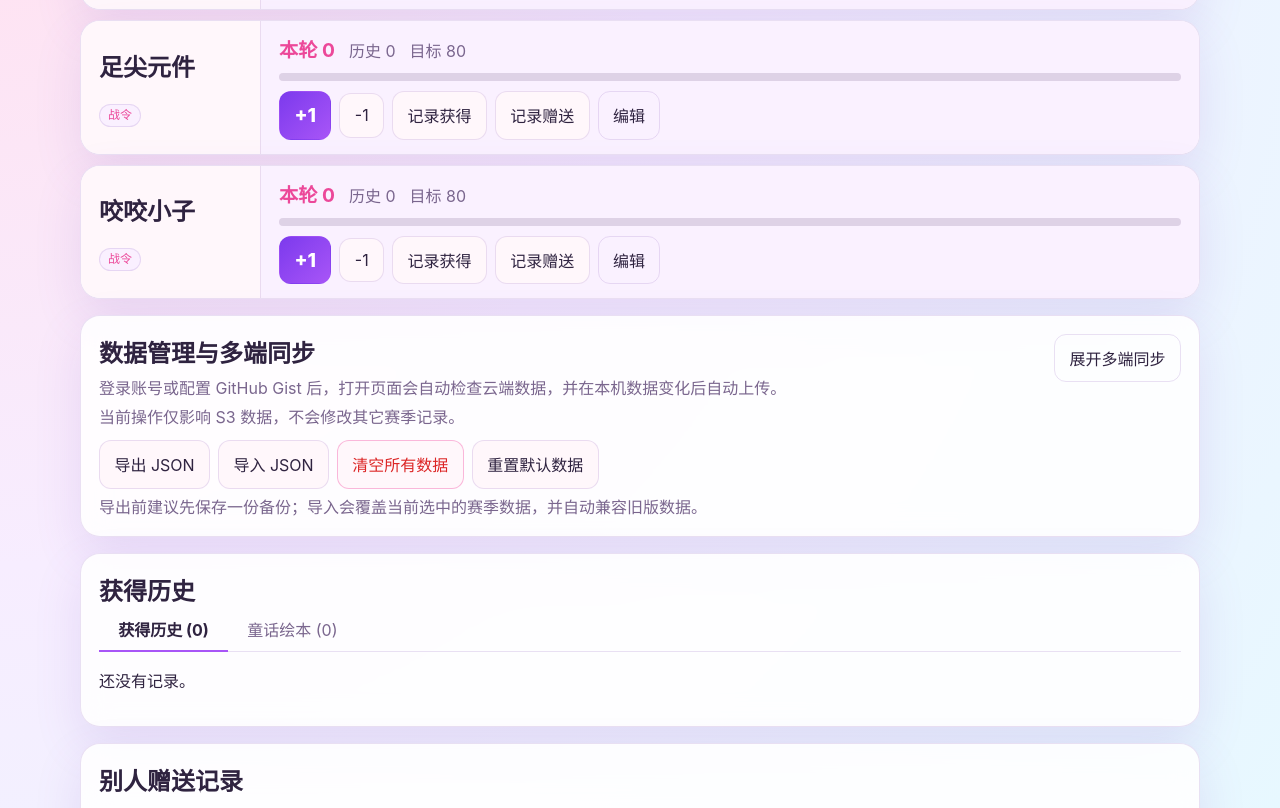
App › pushes current data to a private gist and stores the new gist id
(page scrolled)
Click the button "展开多端同步" at [1118, 358], box 1054,334 -> 1181,382
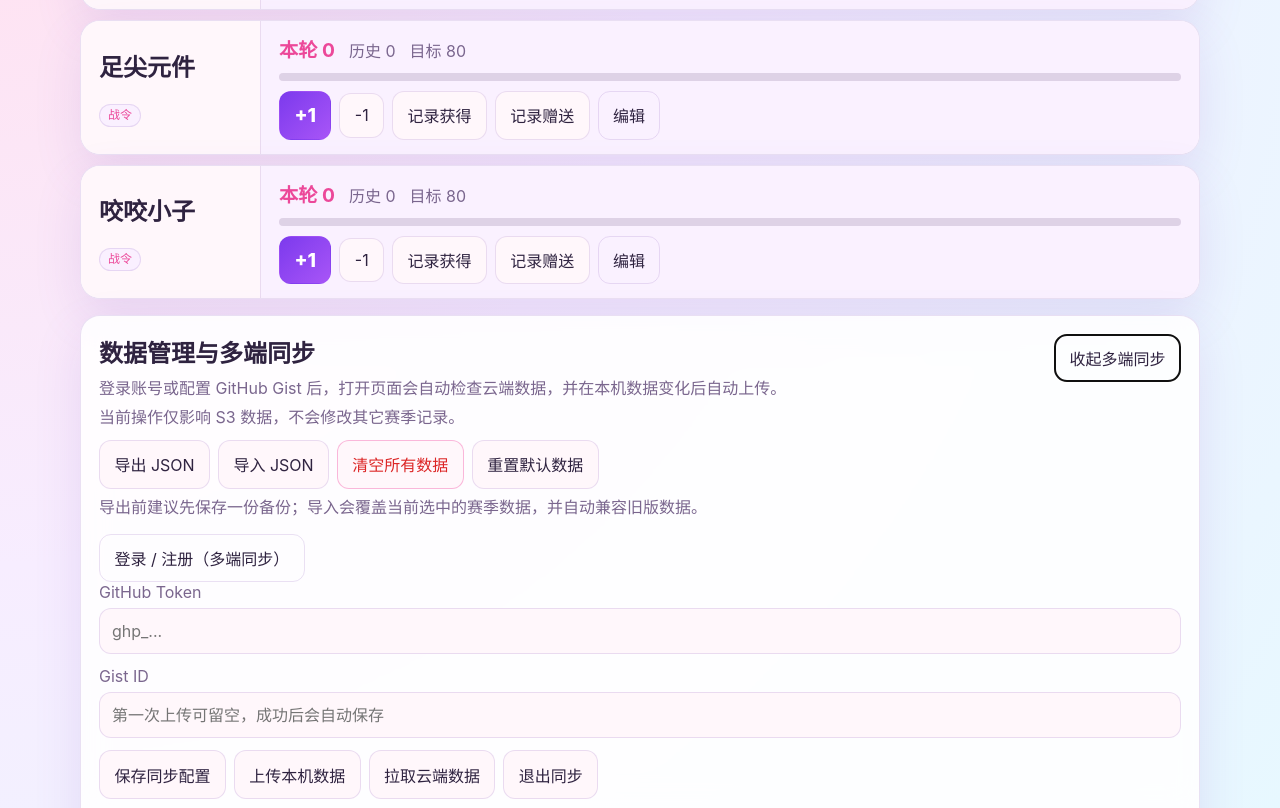
Type "token-1" into the password field labelled "GitHub Token" at [640, 632], box 99,608 -> 1181,654
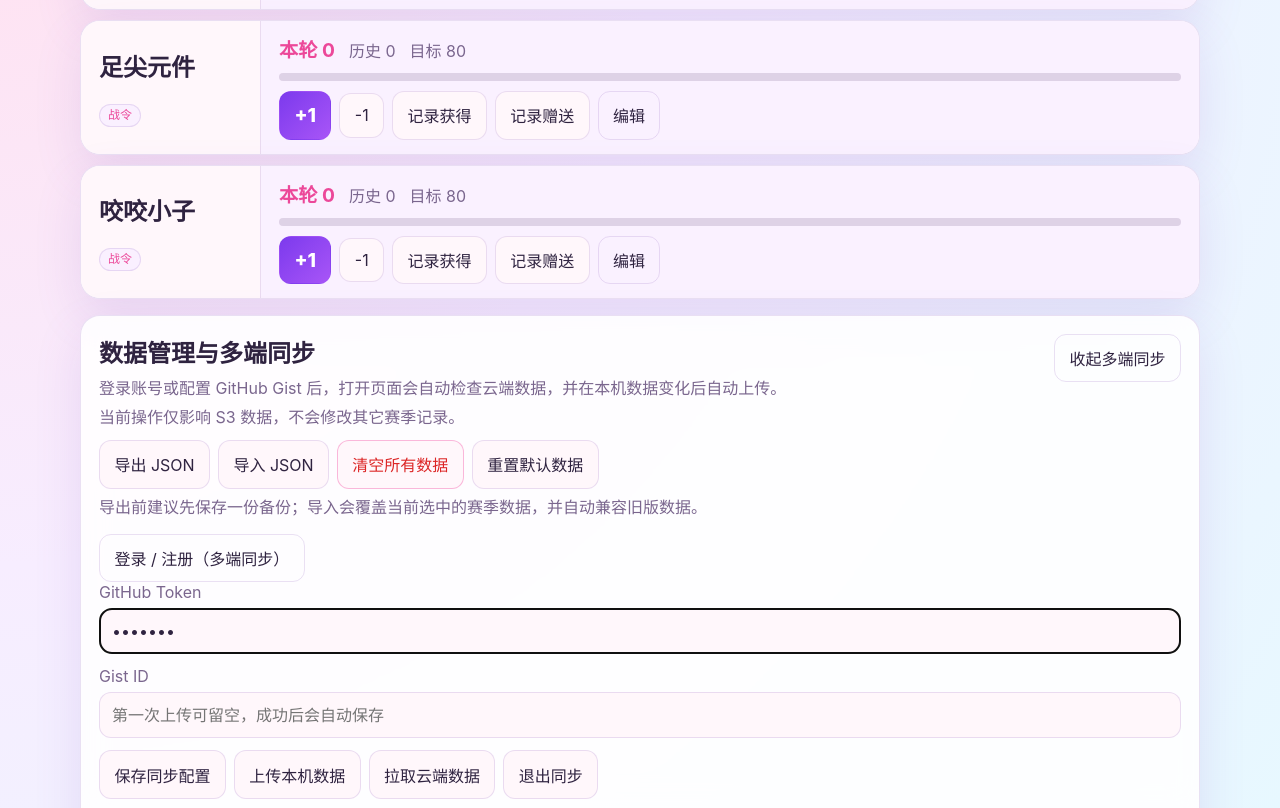
Click the button "上传本机数据" at [297, 775], box 234,750 -> 361,799
(page scrolled)
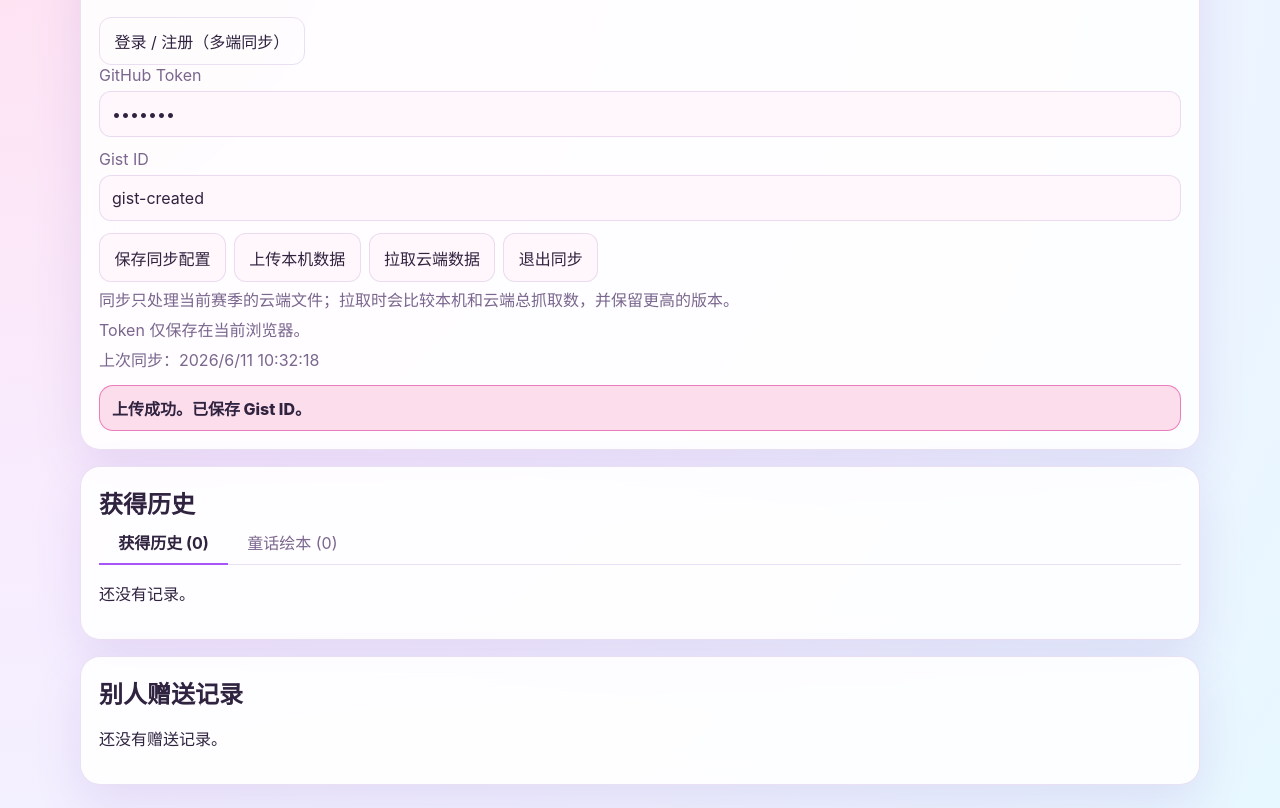
Check: the message reads "上传成功。已保存 Gist ID。", box 112,399 -> 311,419
Check: the text "上次同步：2026/6/11 10:32:18" is shown, box 99,350 -> 319,370
